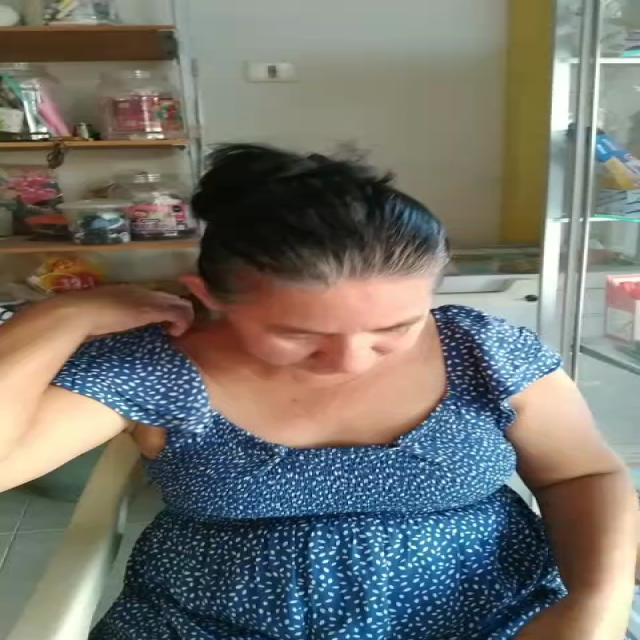9_cabeza_baja: (185, 146, 450, 377)
